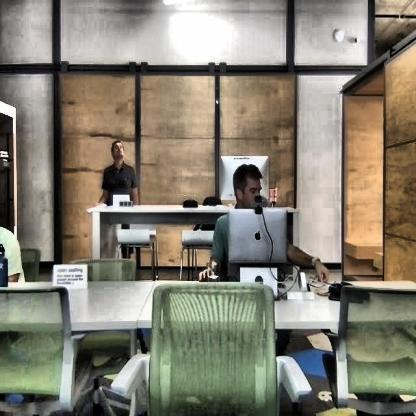not_wear: (232, 166, 260, 211), (111, 139, 124, 168)
